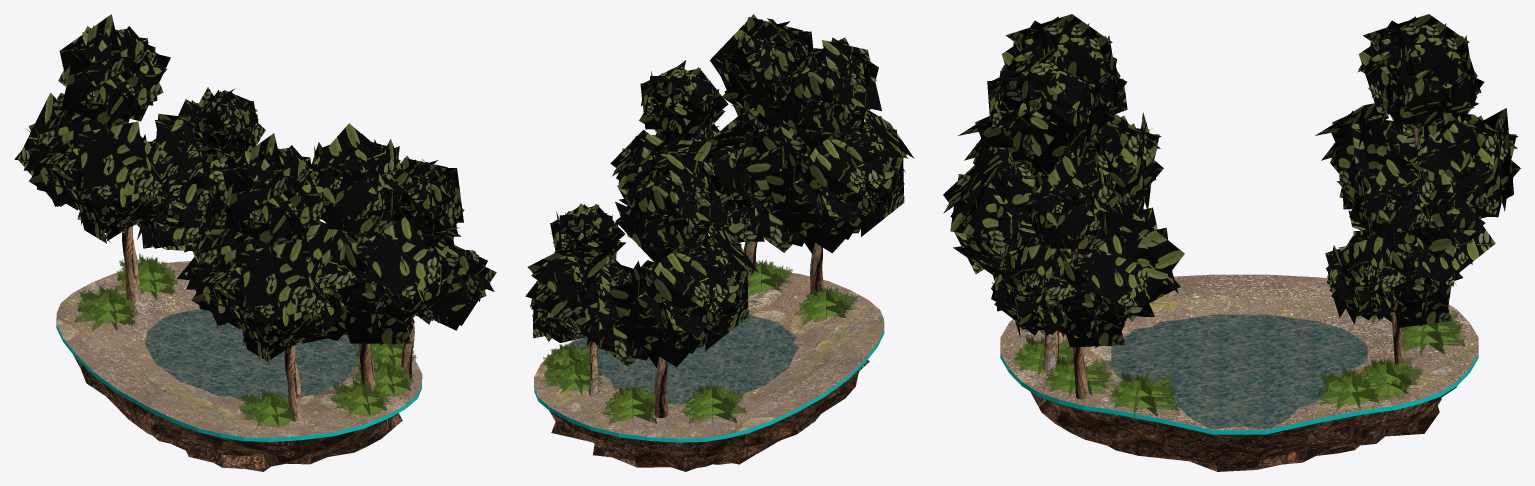
The model's file is BUSH-DIORAMA.glb.
3 renders of one model, left to right at view 1: azimuth 30°, elevation 25°; view 2: azimuth 150°, elevation 25°; view 3: azimuth 270°, elevation 25°, orthographic. The views are drawn at different scales.
Parts seen in each view (by area): view 1: Tree_Generator, ground, water, Alpha Plane Alpine Evergreen Shrub.007; view 2: Tree_Generator, ground, water, Alpha Plane Alpine Evergreen Shrub.007; view 3: Tree_Generator, ground, water, Alpha Plane Alpine Evergreen Shrub.007.
Boxes of the visible parts, <box> form: Tree_Generator: <box>14,14,496,420</box>; ground: <box>56,261,422,471</box>; water: <box>145,309,359,400</box>; Alpha Plane Alpine Evergreen Shrub.007: <box>75,254,417,427</box>; Tree_Generator: <box>525,14,914,417</box>; ground: <box>534,273,884,471</box>; water: <box>571,313,799,404</box>; Alpha Plane Alpine Evergreen Shrub.007: <box>541,259,857,426</box>; Tree_Generator: <box>943,14,1520,399</box>; ground: <box>1000,274,1478,471</box>; water: <box>1107,314,1367,429</box>; Alpha Plane Alpine Evergreen Shrub.007: <box>1012,311,1466,422</box>.
Size of the model in its own units: 19.68 by 23 by 30.5.
7 materials, 6 textured.
